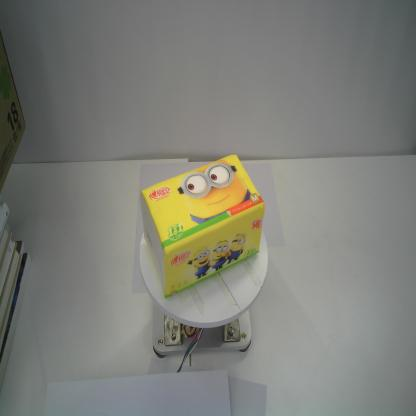Tissue: (138, 153, 266, 301)
